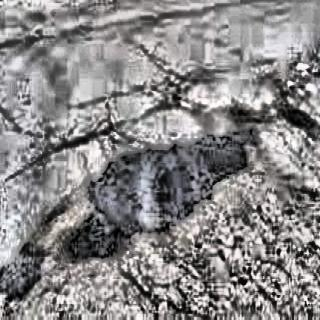crack: (3, 100, 175, 191), (137, 44, 201, 84)
